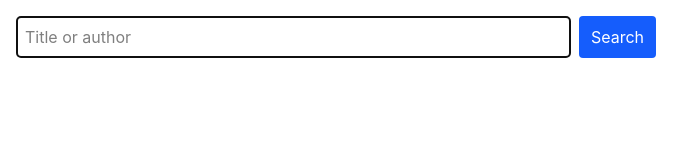
shows empty state
Type "zzzz" into the field named "Search books". click: (293, 37)
box: [16,16,571,58]
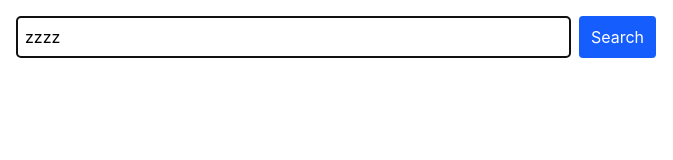
Click the button "Search". click: (617, 37)
box: [579,16,656,58]
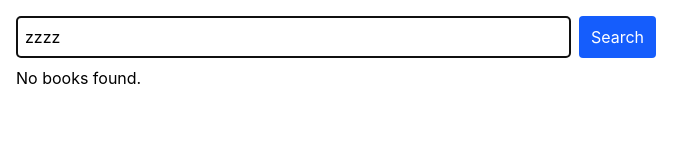
Expected: the text "No books found." is shown, [16,68,141,88]
